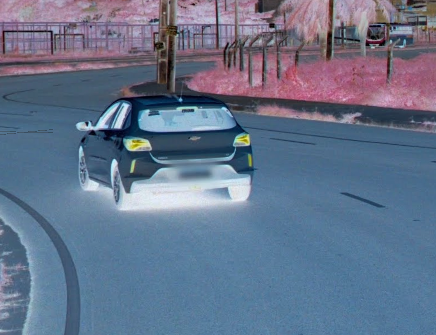car: (72, 79, 259, 210)
